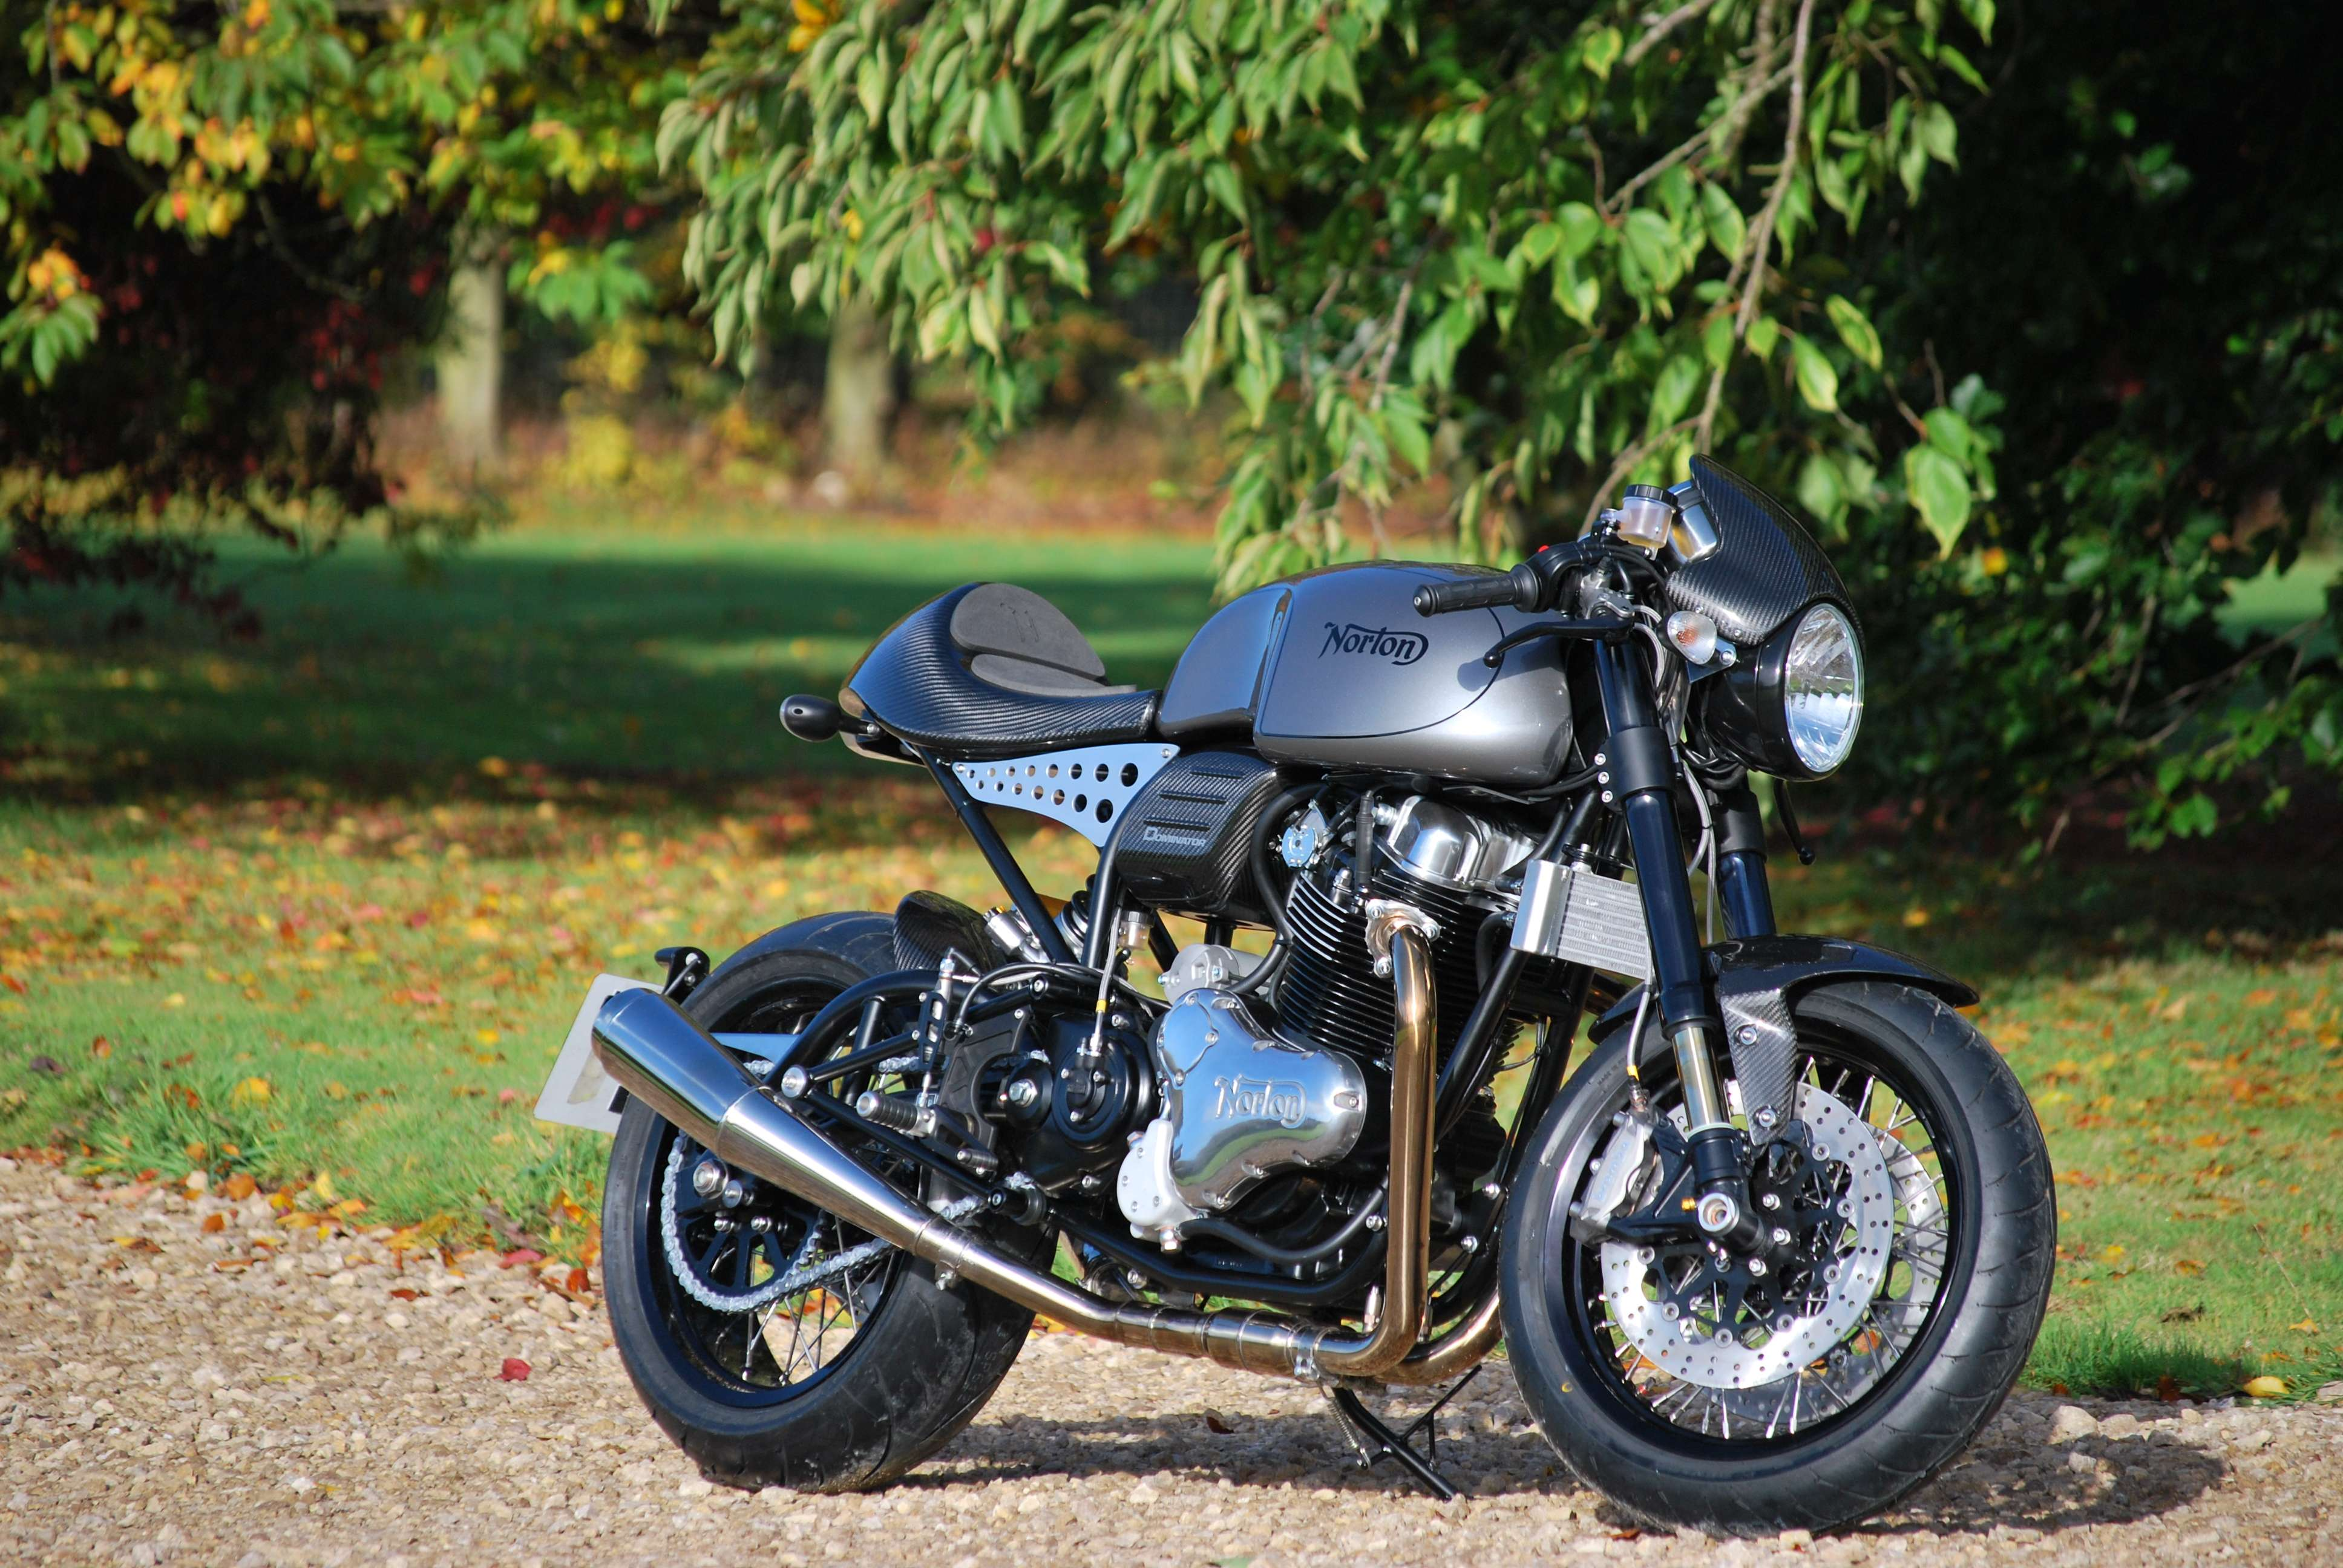motorbike: (520, 464, 2063, 1510)
